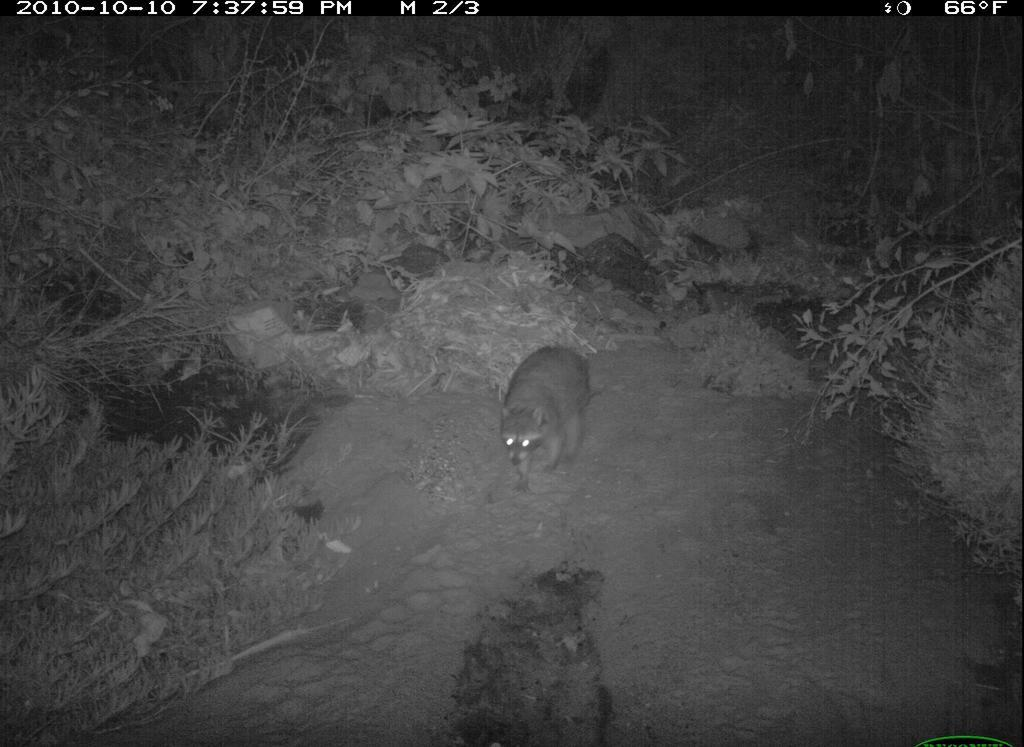raccoon: (473, 327, 606, 488)
